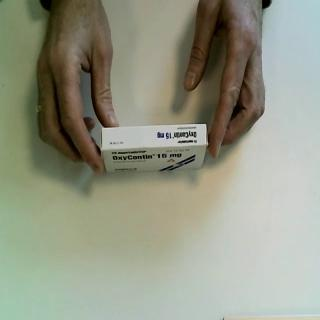oxycontin15mg: (100, 123, 211, 177)
